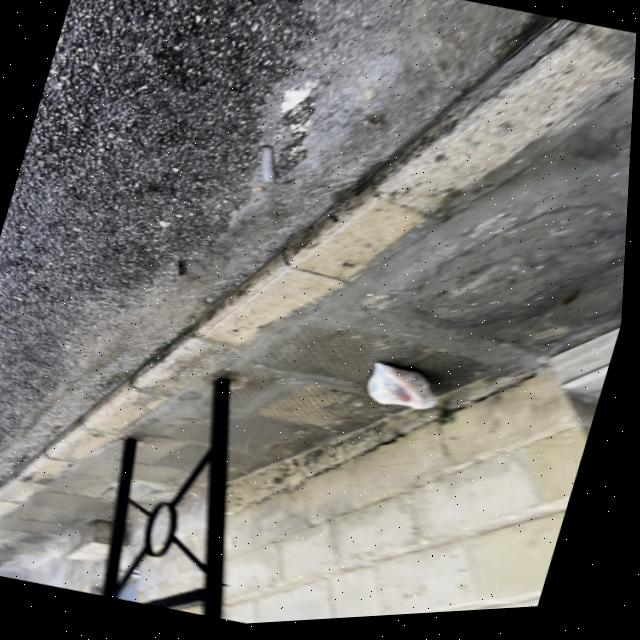Organic Waste -White Bag-: (365, 359, 453, 423)
